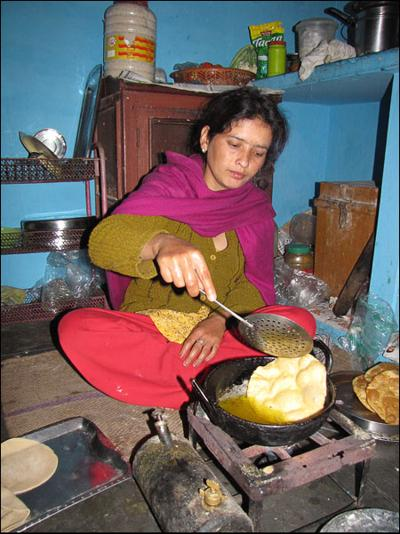person: (59, 87, 334, 410)
